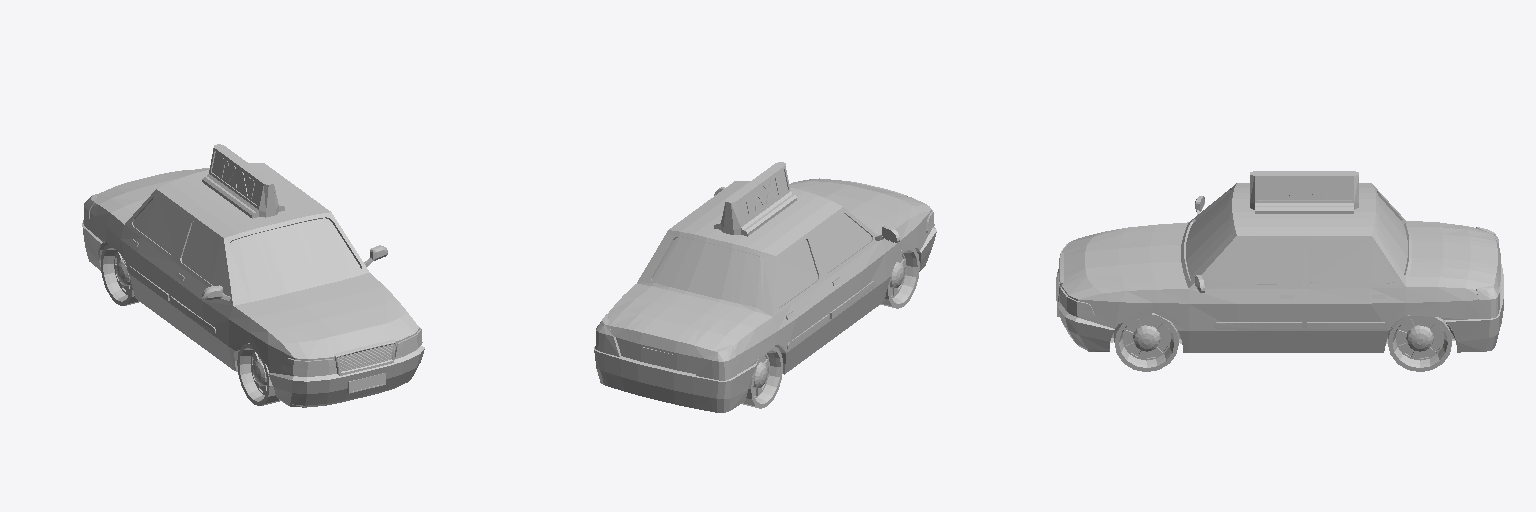
Rendered from Taxi2.obj.
3 renders of one model, left to right at view 1: azimuth 30°, elevation 25°; view 2: azimuth 150°, elevation 25°; view 3: azimuth 270°, elevation 25°, orthographic.
Visible parts, largest first — view 1: taxi_Cube.006; view 2: taxi_Cube.006; view 3: taxi_Cube.006.
Part boxes in pixels (left/top/right/bottom): taxi_Cube.006: left=82, top=144, right=424, bottom=407; taxi_Cube.006: left=594, top=162, right=936, bottom=412; taxi_Cube.006: left=1056, top=171, right=1503, bottom=371.
Size of the model in its own units: 5.26 by 4.48 by 11.02.